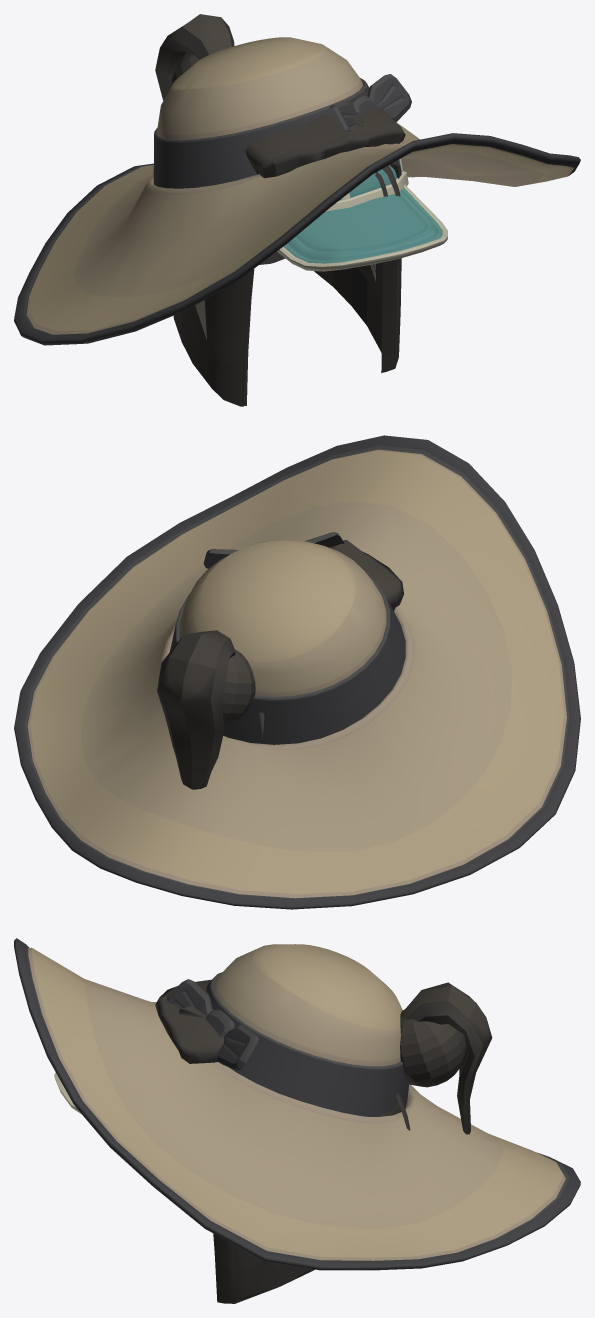
The model's file is HairPackFinal.fbx.
3 views of the same model, one above another, from view 1: azimuth 30°, elevation 25°; view 2: azimuth 150°, elevation 25°; view 3: azimuth 270°, elevation 25° (orthographic).
Visible parts, largest first — view 1: fHairHat, mHairCapHair, mHairElvis, mHairCapBald, fHairHighPony, fHairStraight; view 2: fHairHat, fHairHighPony, fHairBun, mHairElvis; view 3: fHairHat, fHairHighPony, fHairBun, fHairStraight, mHairElvis.
Boxes of the visible parts, <box> form: fHairHat: <box>14,37,580,406</box>; mHairCapHair: <box>283,159,447,263</box>; mHairElvis: <box>245,107,405,178</box>; mHairCapBald: <box>277,159,433,271</box>; fHairHighPony: <box>155,14,400,272</box>; fHairStraight: <box>241,165,401,405</box>; fHairHat: <box>14,435,580,909</box>; fHairHighPony: <box>157,630,235,789</box>; fHairBun: <box>222,649,264,736</box>; mHairElvis: <box>329,540,403,610</box>; fHairHat: <box>14,938,580,1270</box>; fHairHighPony: <box>400,982,492,1134</box>; fHairBun: <box>396,1009,466,1130</box>; fHairStraight: <box>213,1233,314,1303</box>; mHairElvis: <box>155,979,223,1063</box>.
Size of the model in its own units: 65.47 by 39.63 by 63.25.
